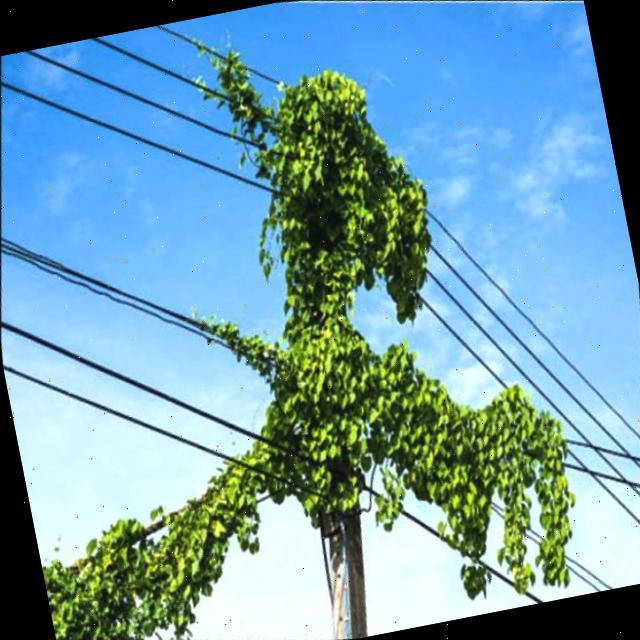critical vegetation: (152, 9, 503, 614)
